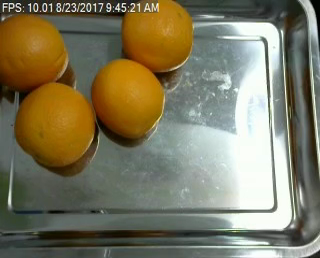Orange: (15, 83, 95, 165), (91, 56, 164, 137), (121, 1, 194, 72), (1, 13, 68, 89)
